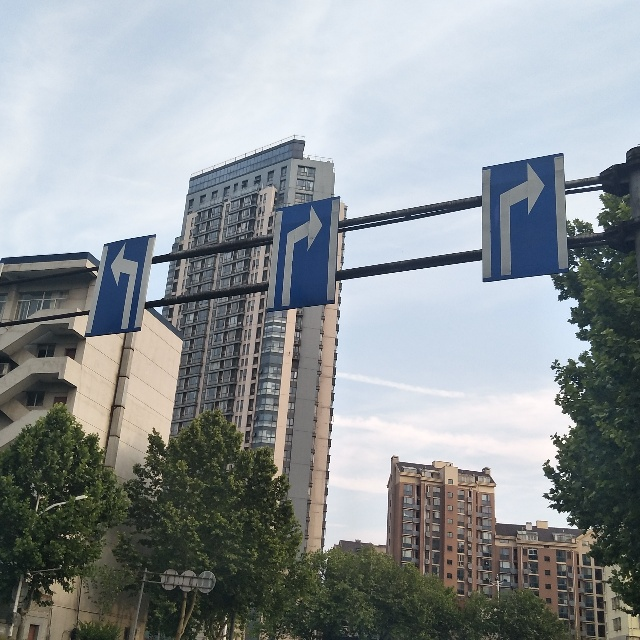left: (101, 234, 144, 332)
right: (486, 155, 557, 282), (281, 202, 334, 313)
